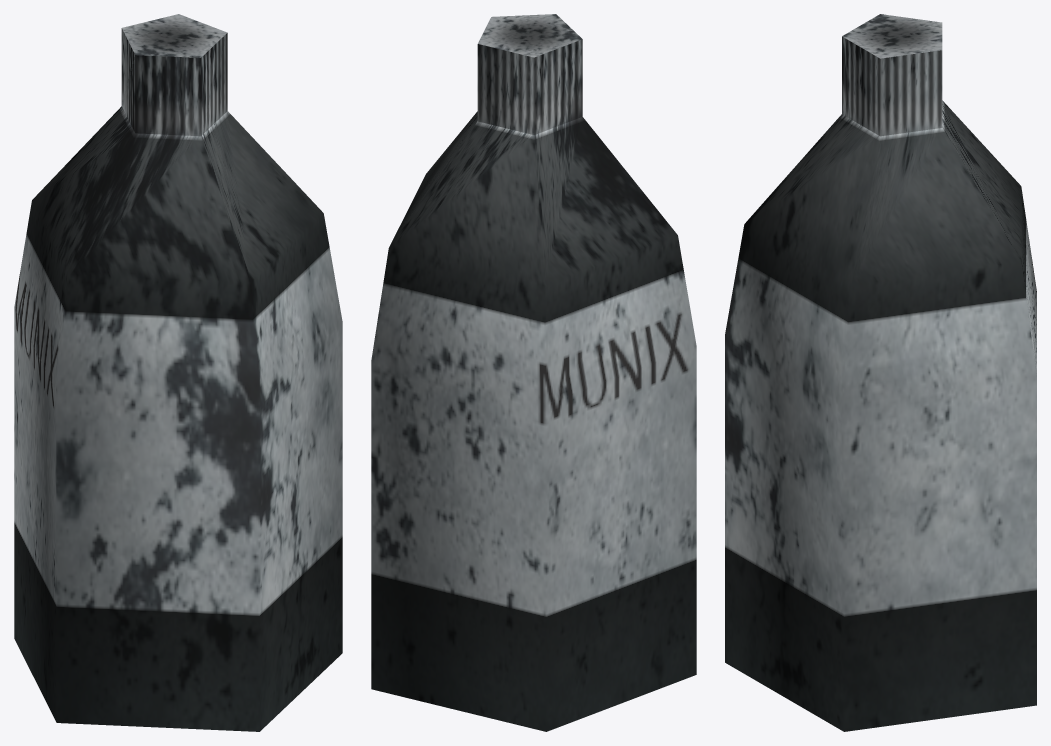
The model's file is medicine_big_E.fbx.
3 renders of one model, left to right at view 1: azimuth 30°, elevation 25°; view 2: azimuth 150°, elevation 25°; view 3: azimuth 270°, elevation 25°, orthographic.
Parts seen in each view (by area): view 1: medicine_big_E; view 2: medicine_big_E; view 3: medicine_big_E.
Part boxes in pixels (box(x1,y1,x2,y2)): medicine_big_E: box(14, 14, 342, 731); medicine_big_E: box(371, 14, 696, 731); medicine_big_E: box(725, 14, 1036, 731).
Size of the model in its own units: 10.68 by 22.51 by 10.16.
